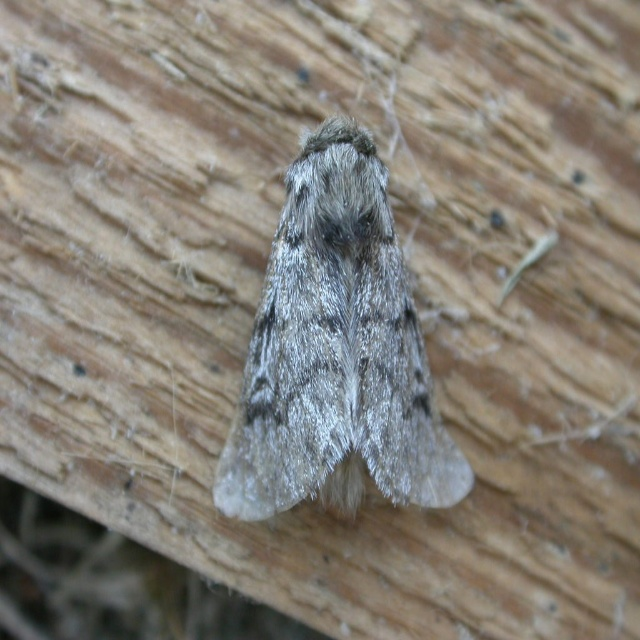Moths and butterflies: (209, 111, 478, 527)
